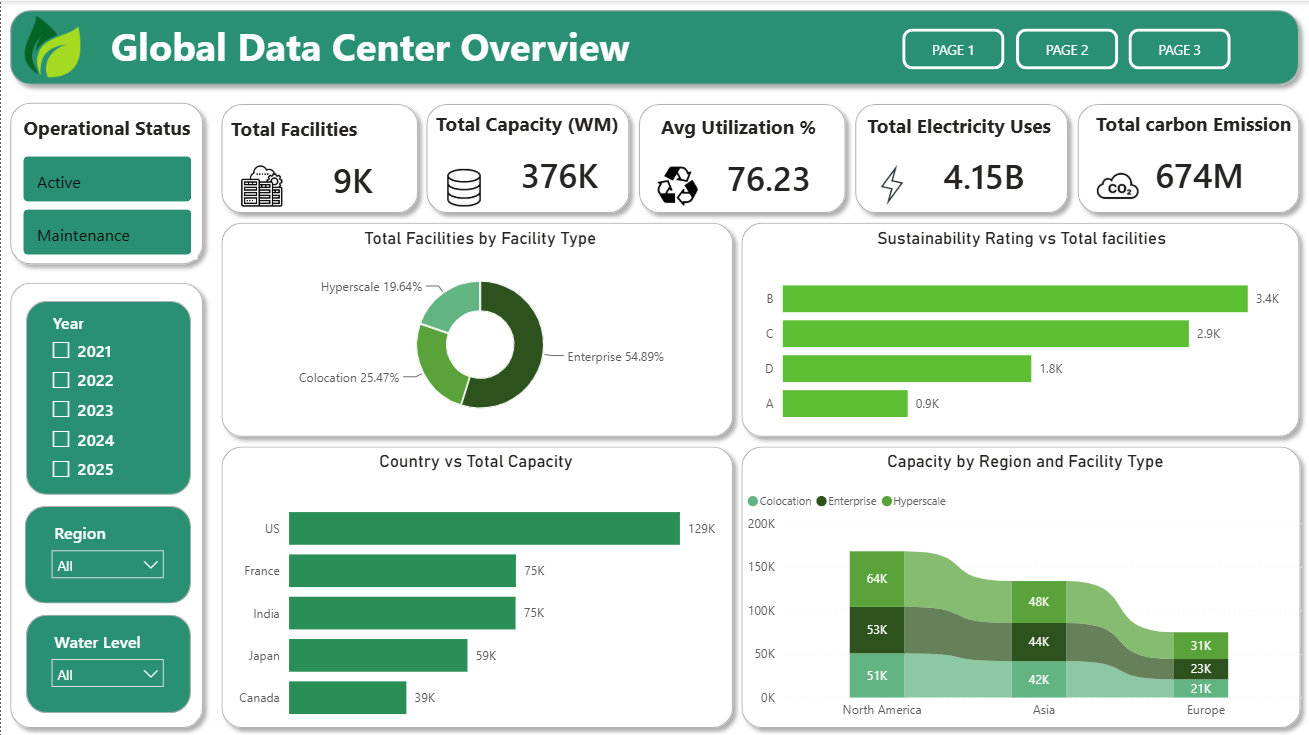

What the dashboard file says about the page in this screenshot:
{"tool":"powerbi","page":{"name":"PAGE 1","canvas":[1280,720],"ordinal":2},"visuals":[{"type":"card","fields":{"Values":["Table1.Total Facilities"]},"box":[223.5,91.2,260.7,145.5],"z":0},{"type":"shape","title":"Total Facilities","box":[206.7,91.7,210.3,124.7],"z":1000},{"type":"shape","box":[407.2,91.7,216.4,124.7],"z":2000},{"type":"shape","box":[615.1,91.7,220.1,124.7],"z":3000},{"type":"shape","box":[826.6,91.7,226.2,124.7],"z":4000},{"type":"shape","box":[1044.3,91.7,234.8,124.7],"z":5000},{"type":"card","title":"Total Facilities","fields":{"Values":["Table1.Total Facilities 1"]},"box":[220.1,112.5,248.5,89.7],"z":6000},{"type":"card","title":"Total Capacity (WM)","fields":{"Values":["Table1.Total Capacity (MW)"]},"box":[420.7,107.6,251.9,90.5],"z":7000},{"type":"card","title":"Avg Utilization %","fields":{"Values":["Table1.Avg Utilization %"]},"box":[640.8,110.1,222.1,89.7],"z":8000},{"type":"card","title":"Total Electricity Uses","fields":{"Values":["Table1.Total Electricity Usage"]},"box":[842.5,108.8,238.2,89.7],"z":9000},{"type":"card","title":"Total carbon Emission","fields":{"Values":["Table1.Total CO2 Emission"]},"box":[1066.3,107.6,212.8,89.3],"z":10000},{"type":"shape","title":"Total Facilities","box":[206.7,207.9,518.5,227.4],"z":11000},{"type":"shape","title":"Total Facilities","box":[715.4,207.9,563.7,227.4],"z":12000},{"type":"shape","title":"Total Facilities","box":[206.7,426.8,518.5,293.5],"z":13000},{"type":"shape","title":"Total Facilities","box":[715.4,426.8,564.9,293.5],"z":14000},{"type":"donutChart","title":"Total Facilities by Facility Type","fields":{"Category":["Table1.Facility_Type"],"Y":["Table1.Total Facilities 1"]},"box":[233.6,221.3,470.8,199.3],"z":15000},{"type":"shape","title":"Total Facilities","box":[0,90.5,206.7,176.1],"z":16000},{"type":"shape","title":"Total Facilities","box":[0,266.6,206.7,453.7],"z":17000},{"type":"shape","title":"Total Facilities","box":[0,0,1278.8,90.9],"z":18000},{"type":"shape","title":"Total Facilities","box":[24.5,293.5,161.4,189.5],"z":19000},{"type":"shape","title":"Total Facilities","box":[25,600,161.2,96.2],"z":20000},{"type":"slicer","fields":{"Values":["Table1.Year"]},"box":[37.9,298.4,130.8,181],"z":21000},{"type":"shape","title":"Total Facilities","box":[23.2,494,162.6,95.4],"z":22000},{"type":"slicer","fields":{"Values":["Table1.Region"]},"box":[39.1,503.8,129.6,75.8],"z":23000},{"type":"slicer","fields":{"Values":["Table1.Water Level"]},"box":[39.1,610.2,129.6,75.8],"z":24000},{"type":"image","box":[22.7,12.1,54.5,65.2],"z":25000},{"type":"textbox","box":[81.9,13.5,868.2,64.8],"z":26000},{"type":"advancedSlicerVisual","fields":{"Values":["Table1.Operational Status"]},"box":[17.1,111.3,174.9,141.8],"z":27000},{"type":"actionButton","box":[881.7,26.9,100,40],"z":28000},{"type":"actionButton","box":[992.9,26.9,100,40],"z":29000},{"type":"image","box":[233.6,160.2,42.8,41.6],"z":30000},{"type":"image","box":[436.6,162.6,33,40.4],"z":31000},{"type":"image","box":[640.8,161.4,42.8,39.1],"z":32000},{"type":"image","box":[835.2,160.2,73.4,39.1],"z":33000},{"type":"image","box":[1052.9,161.4,79.5,40.4],"z":34000},{"type":"clusteredBarChart","title":"Sustainability Rating vs Total facilities","fields":{"Category":["Table1.Sustainability_Rating"],"Y":["Table1.Total Facilities 1"]},"box":[741,221.3,514.8,205.4],"z":35000},{"type":"barChart","title":"Country vs Total Capacity","fields":{"Category":["Table1.Country"],"Y":["Table1.Total Capacity (MW)"]},"box":[225,440.2,479.4,280],"z":36000},{"type":"ribbonChart","title":"Capacity by Region and Facility Type","fields":{"Category":["Table1.Region"],"Series":["Table1.Facility_Type"],"Y":["Table1.Total Capacity (MW)"]},"box":[725.1,440.2,553.9,271.5],"z":37000},{"type":"actionButton","box":[1103,26.9,100,40],"z":38000}]}

Visuals, with their boxes in screenshot pixels (x1, y1, x2, y2), scaled from the page's 1280x720 canvas onto the 1309x735 screenshot:
card - Table1.Total Facilities: (x1=229, y1=93, x2=495, y2=242)
"Total Facilities" shape: (x1=211, y1=94, x2=426, y2=221)
shape: (x1=416, y1=94, x2=638, y2=221)
shape: (x1=629, y1=94, x2=854, y2=221)
shape: (x1=845, y1=94, x2=1077, y2=221)
shape: (x1=1068, y1=94, x2=1308, y2=221)
"Total Facilities" card: (x1=225, y1=115, x2=479, y2=206)
"Total Capacity (WM)" card: (x1=430, y1=110, x2=688, y2=202)
"Avg Utilization %" card: (x1=655, y1=112, x2=882, y2=204)
"Total Electricity Uses" card: (x1=862, y1=111, x2=1105, y2=203)
"Total carbon Emission" card: (x1=1090, y1=110, x2=1308, y2=201)
"Total Facilities" shape: (x1=211, y1=212, x2=742, y2=444)
"Total Facilities" shape: (x1=732, y1=212, x2=1308, y2=444)
"Total Facilities" shape: (x1=211, y1=436, x2=742, y2=734)
"Total Facilities" shape: (x1=732, y1=436, x2=1308, y2=734)
"Total Facilities by Facility Type" donutChart: (x1=239, y1=226, x2=720, y2=429)
"Total Facilities" shape: (x1=0, y1=92, x2=211, y2=272)
"Total Facilities" shape: (x1=0, y1=272, x2=211, y2=734)
"Total Facilities" shape: (x1=0, y1=0, x2=1308, y2=93)
"Total Facilities" shape: (x1=25, y1=300, x2=190, y2=493)
"Total Facilities" shape: (x1=26, y1=612, x2=190, y2=711)
slicer - Table1.Year: (x1=39, y1=305, x2=173, y2=489)
"Total Facilities" shape: (x1=24, y1=504, x2=190, y2=602)
slicer - Table1.Region: (x1=40, y1=514, x2=173, y2=592)
slicer - Table1.Water Level: (x1=40, y1=623, x2=173, y2=700)
image: (x1=23, y1=12, x2=79, y2=79)
textbox: (x1=84, y1=14, x2=972, y2=80)
advancedSlicerVisual - Table1.Operational Status: (x1=17, y1=114, x2=196, y2=258)
actionButton: (x1=902, y1=27, x2=1004, y2=68)
actionButton: (x1=1015, y1=27, x2=1118, y2=68)
image: (x1=239, y1=164, x2=283, y2=206)
image: (x1=446, y1=166, x2=480, y2=207)
image: (x1=655, y1=165, x2=699, y2=205)
image: (x1=854, y1=164, x2=929, y2=203)
image: (x1=1077, y1=165, x2=1158, y2=206)
"Sustainability Rating vs Total facilities" clusteredBarChart: (x1=758, y1=226, x2=1284, y2=436)
"Country vs Total Capacity" barChart: (x1=230, y1=449, x2=720, y2=734)
"Capacity by Region and Facility Type" ribbonChart: (x1=742, y1=449, x2=1308, y2=727)
actionButton: (x1=1128, y1=27, x2=1230, y2=68)
